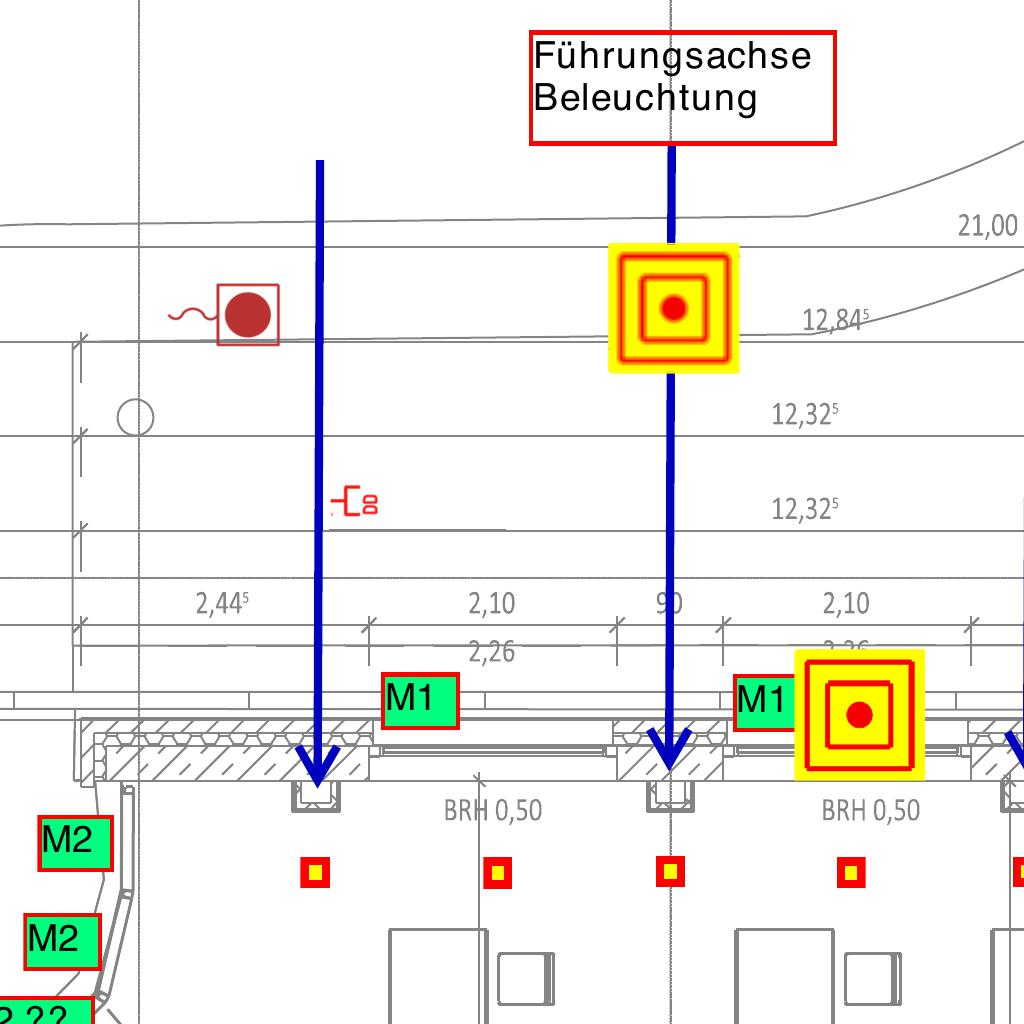Datenanschluss_zweifach: (329, 483, 380, 517)
NAM-Nichtautomatischer_Melder: (794, 649, 926, 781), (608, 242, 740, 374)
Zugtaster: (162, 278, 284, 350)
